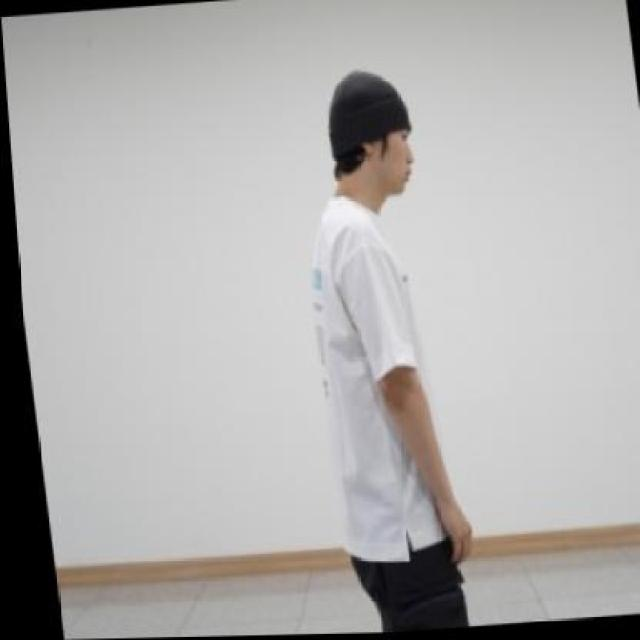hat: (314, 60, 414, 169)
